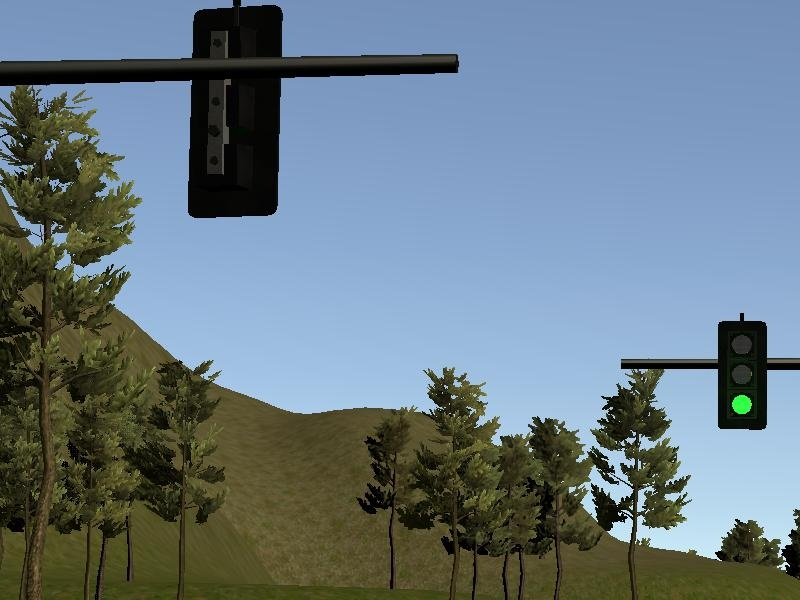GREEN: (717, 321, 767, 429)
